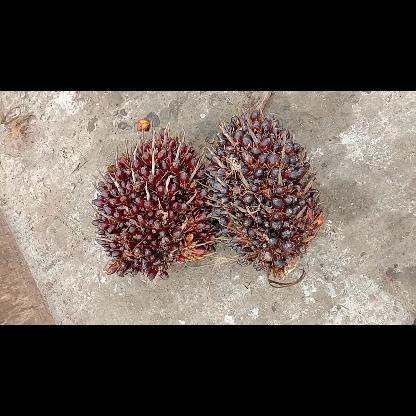Kurang masak: (210, 112, 324, 280)
TBS masak: (94, 129, 216, 281)
